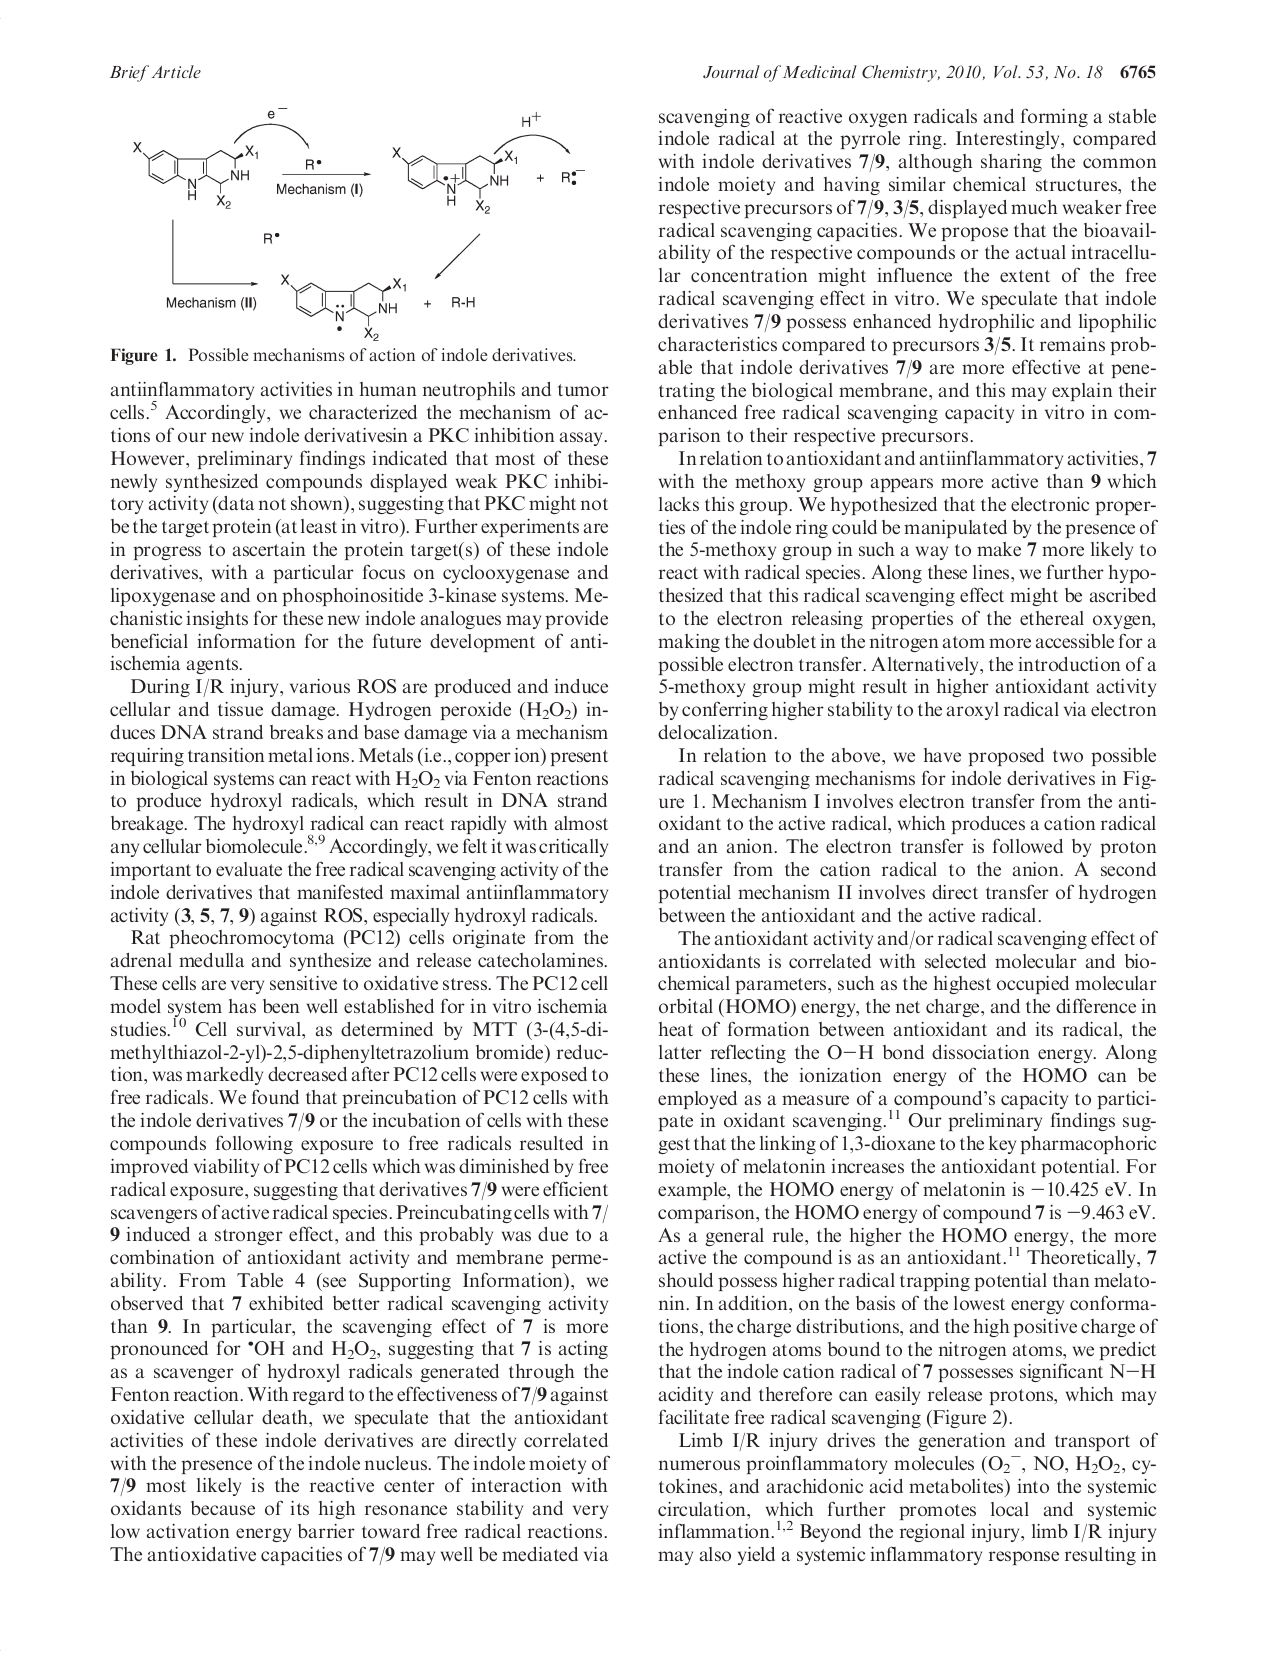exist_molecular: (391, 144, 523, 214), (277, 271, 410, 340), (130, 140, 261, 209)
